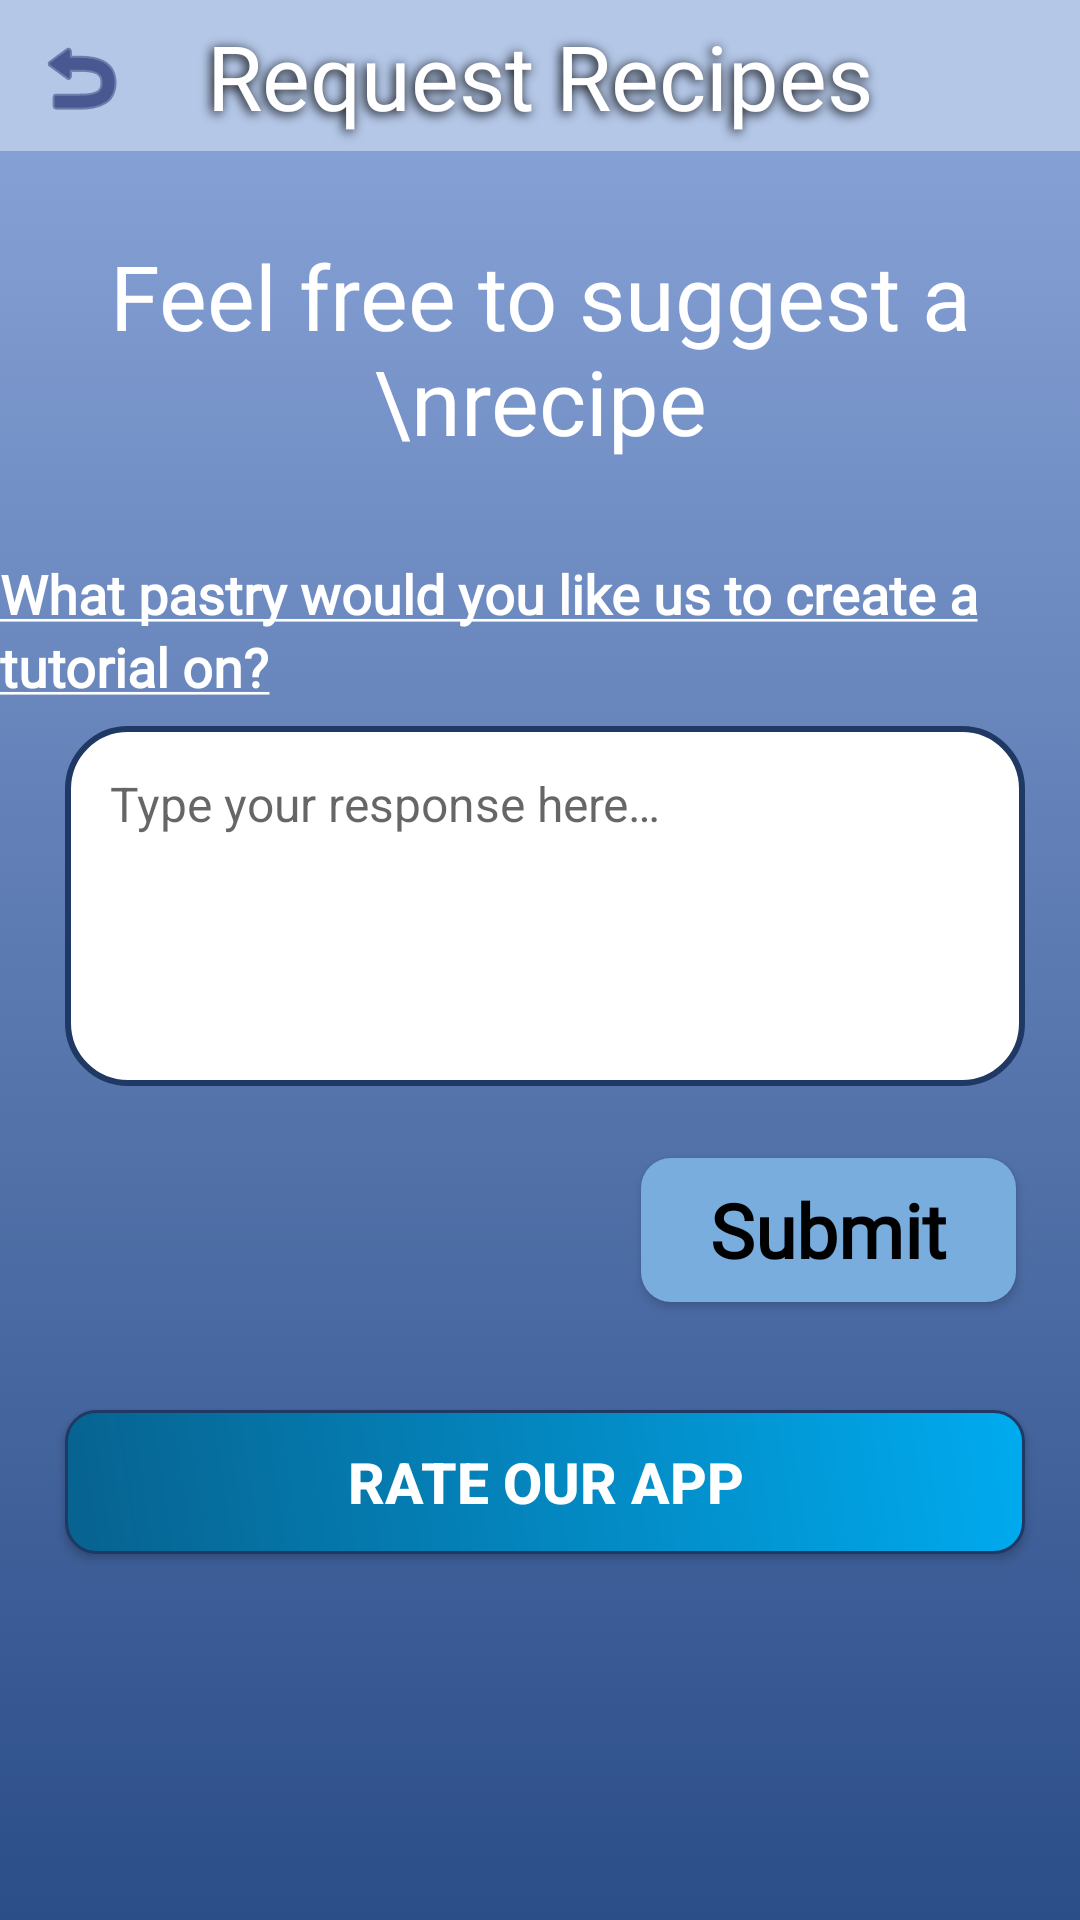

Icons on this 1080px×1920px Android screen, each with the point to tap as (x,y):
revert: (82,78)
